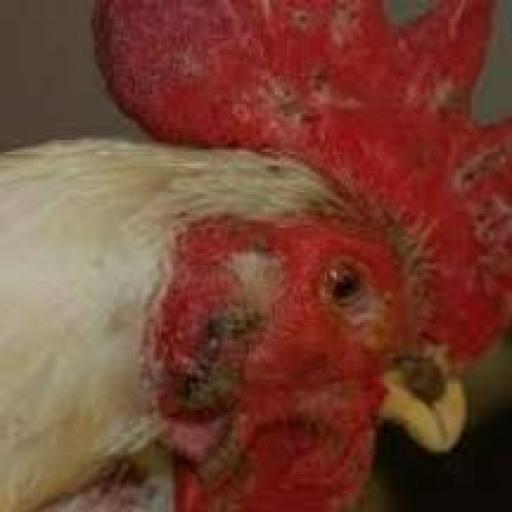disease: (99, 0, 512, 132), (323, 145, 512, 395)
